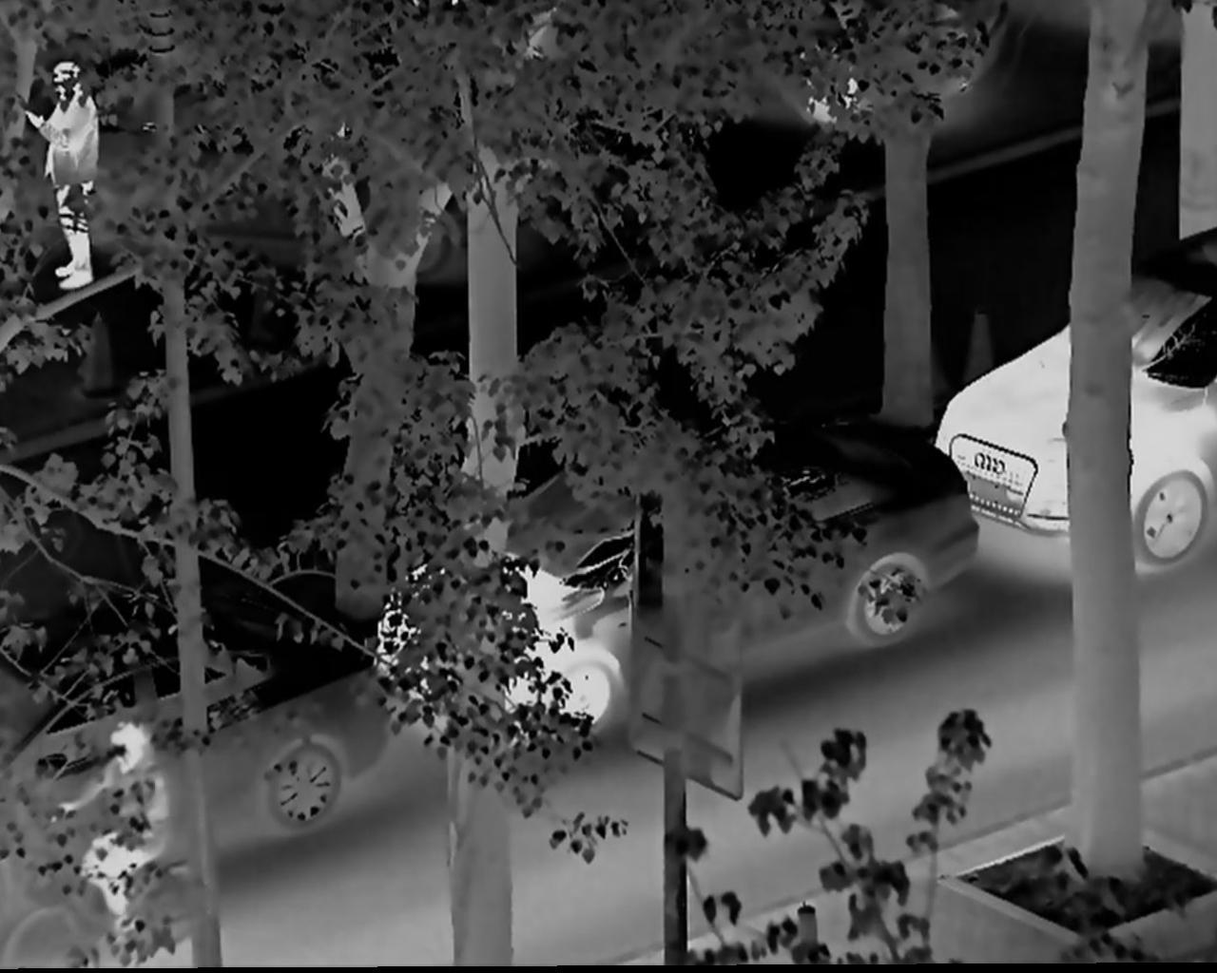person: (63, 711, 167, 946), (23, 61, 100, 295)
